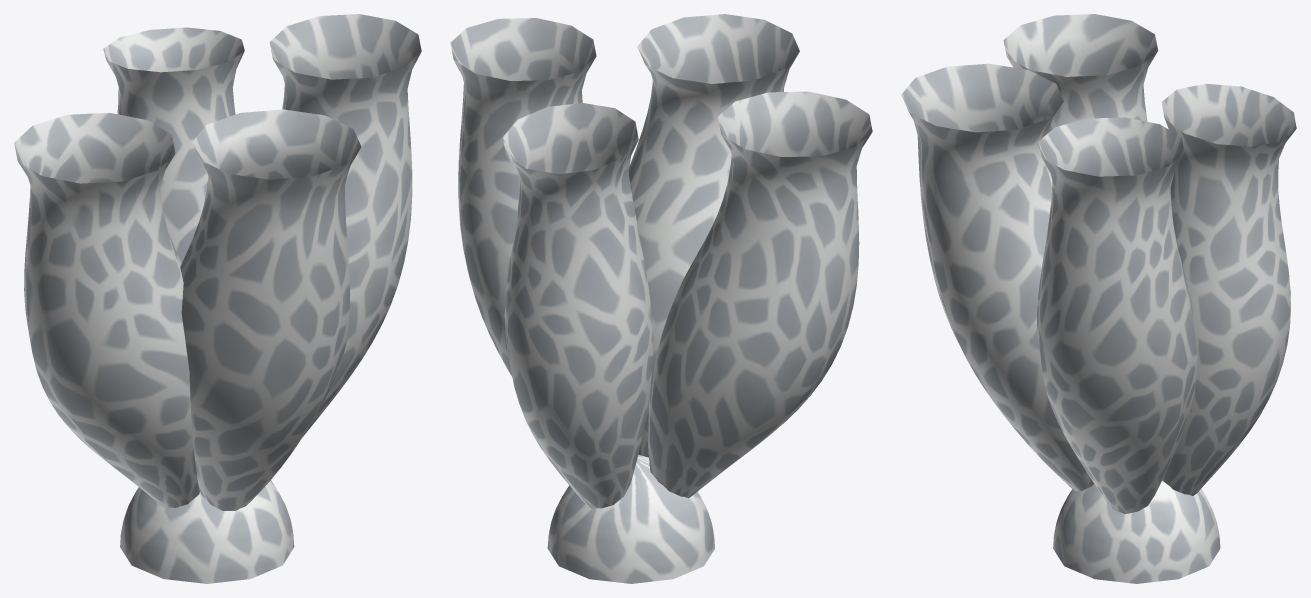
The model's file is SM_GlassSponge_B.fbx.
The picture shows the model from 3 angles, left to right: view 1: azimuth 30°, elevation 25°; view 2: azimuth 150°, elevation 25°; view 3: azimuth 270°, elevation 25°; orthographic projection. The views are drawn at different scales.
Visible parts, largest first — view 1: MSH_GlassSponge_B_LOD0; view 2: MSH_GlassSponge_B_LOD0; view 3: MSH_GlassSponge_B_LOD0.
Boxes of the visible parts, x1,y1,x2,y2 form: MSH_GlassSponge_B_LOD0: (14,14,421,583); MSH_GlassSponge_B_LOD0: (450,14,872,583); MSH_GlassSponge_B_LOD0: (901,14,1296,583).
Size of what is drawn, in the model's own units: 0.2401 by 0.2739 by 0.2127.
